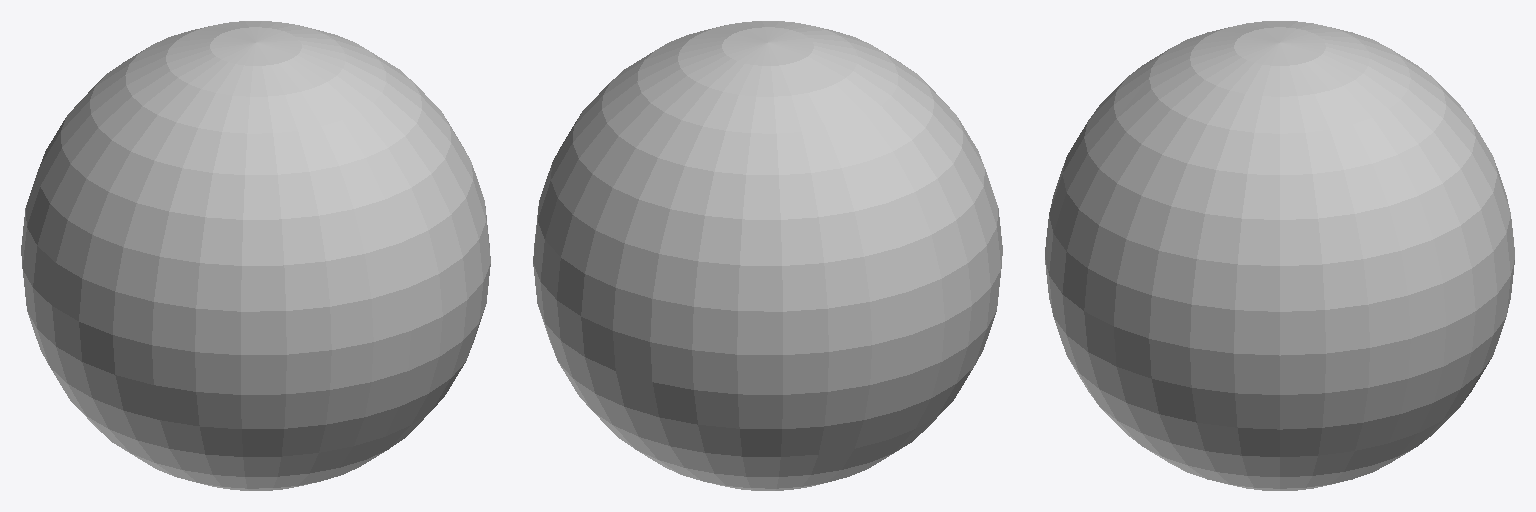
Rendered from pelota.obj.
3 renders of one model, left to right at view 1: azimuth 30°, elevation 25°; view 2: azimuth 150°, elevation 25°; view 3: azimuth 270°, elevation 25°, orthographic.
Visible parts, largest first — view 1: Esfera; view 2: Esfera; view 3: Esfera.
Part boxes in pixels (left/top/right/bottom): Esfera: left=21, top=21, right=490, bottom=490; Esfera: left=533, top=21, right=1002, bottom=490; Esfera: left=1045, top=21, right=1514, bottom=490.
Bounding box in the file's own units: 0.4379 × 0.4379 × 0.4379.